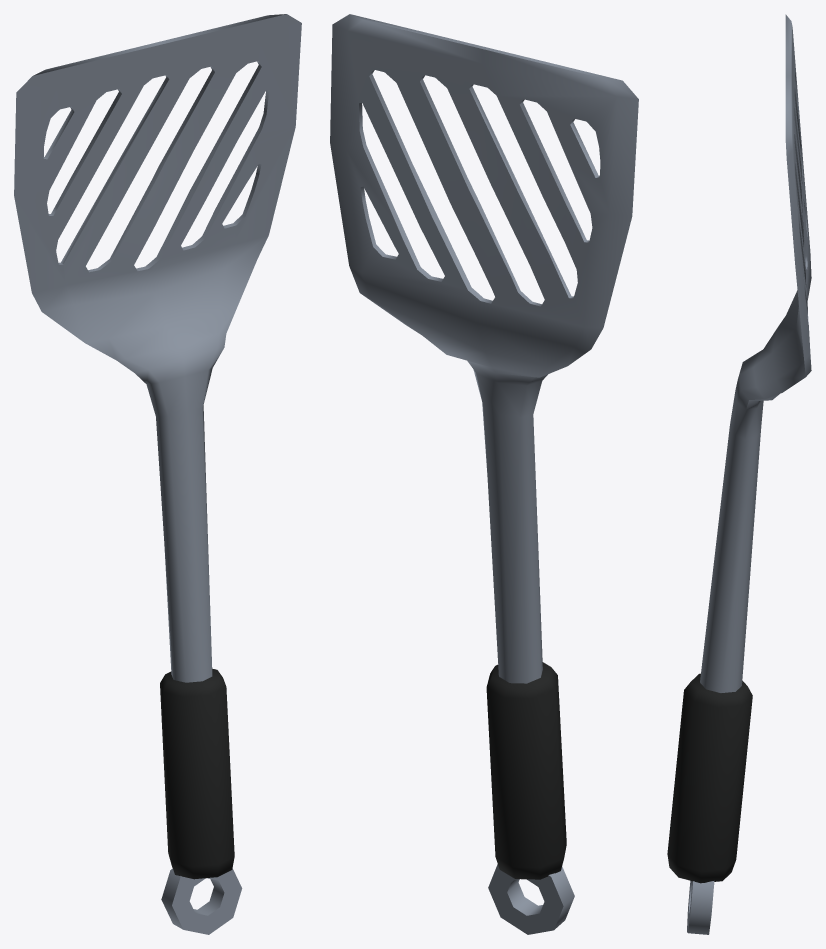
File: Spatula-7Dtbkkz9pe.glb
3 renders of one model, left to right at view 1: azimuth 30°, elevation 25°; view 2: azimuth 150°, elevation 25°; view 3: azimuth 270°, elevation 25°, orthographic. The views are drawn at different scales.
Parts seen in each view (by area): view 1: cutensils_spatula_slotted_Cylinder.002; view 2: cutensils_spatula_slotted_Cylinder.002; view 3: cutensils_spatula_slotted_Cylinder.002.
Part boxes in pixels (x1=…): cutensils_spatula_slotted_Cylinder.002: x1=14, y1=14, x2=301, y2=934; cutensils_spatula_slotted_Cylinder.002: x1=330, y1=14, x2=638, y2=934; cutensils_spatula_slotted_Cylinder.002: x1=667, y1=14, x2=811, y2=934.
Bounding box in the file's own units: 2.51 × 7.2 × 1.1.
Materials: 1 (1 with a texture image).
